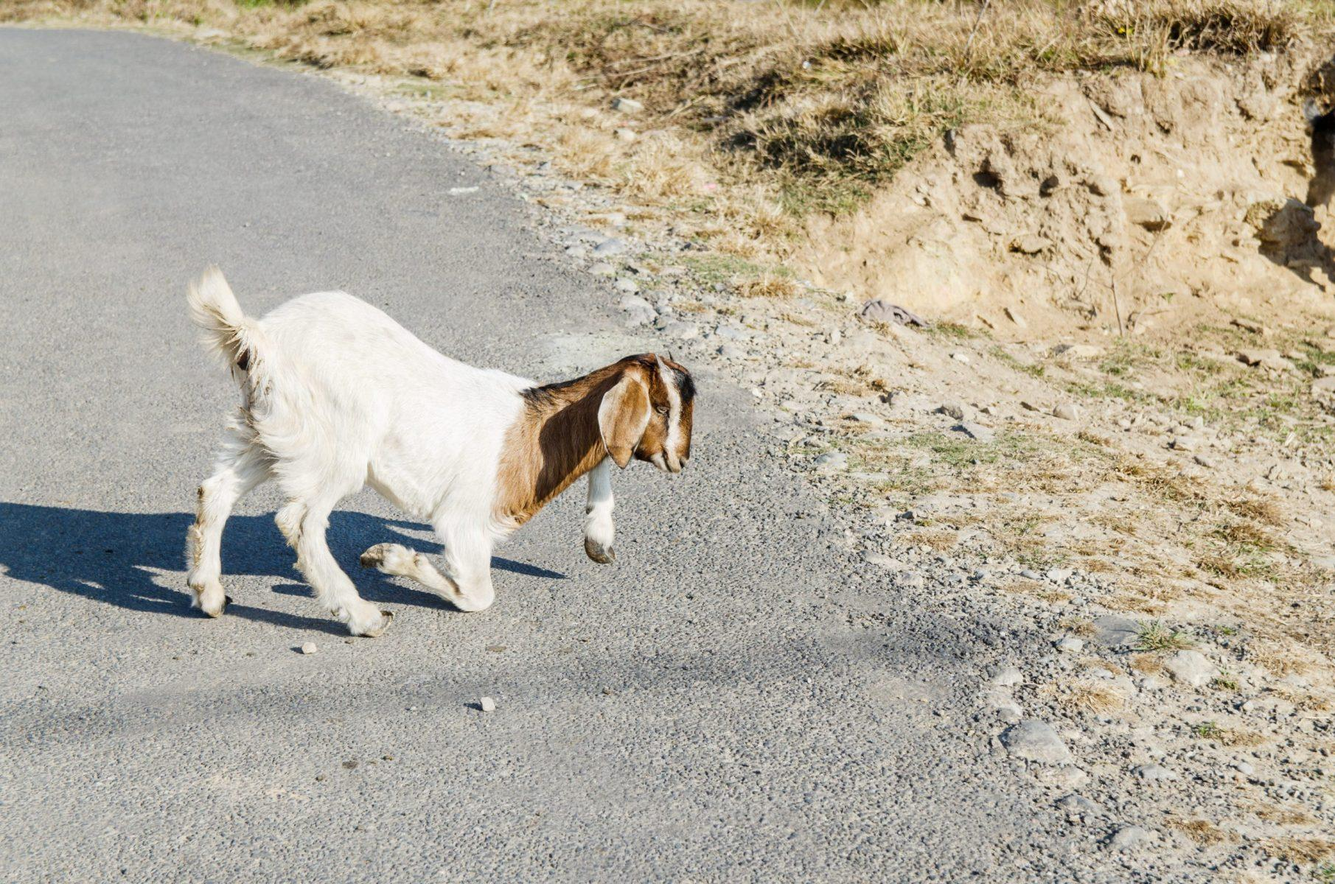fracture: (324, 475, 533, 641)
